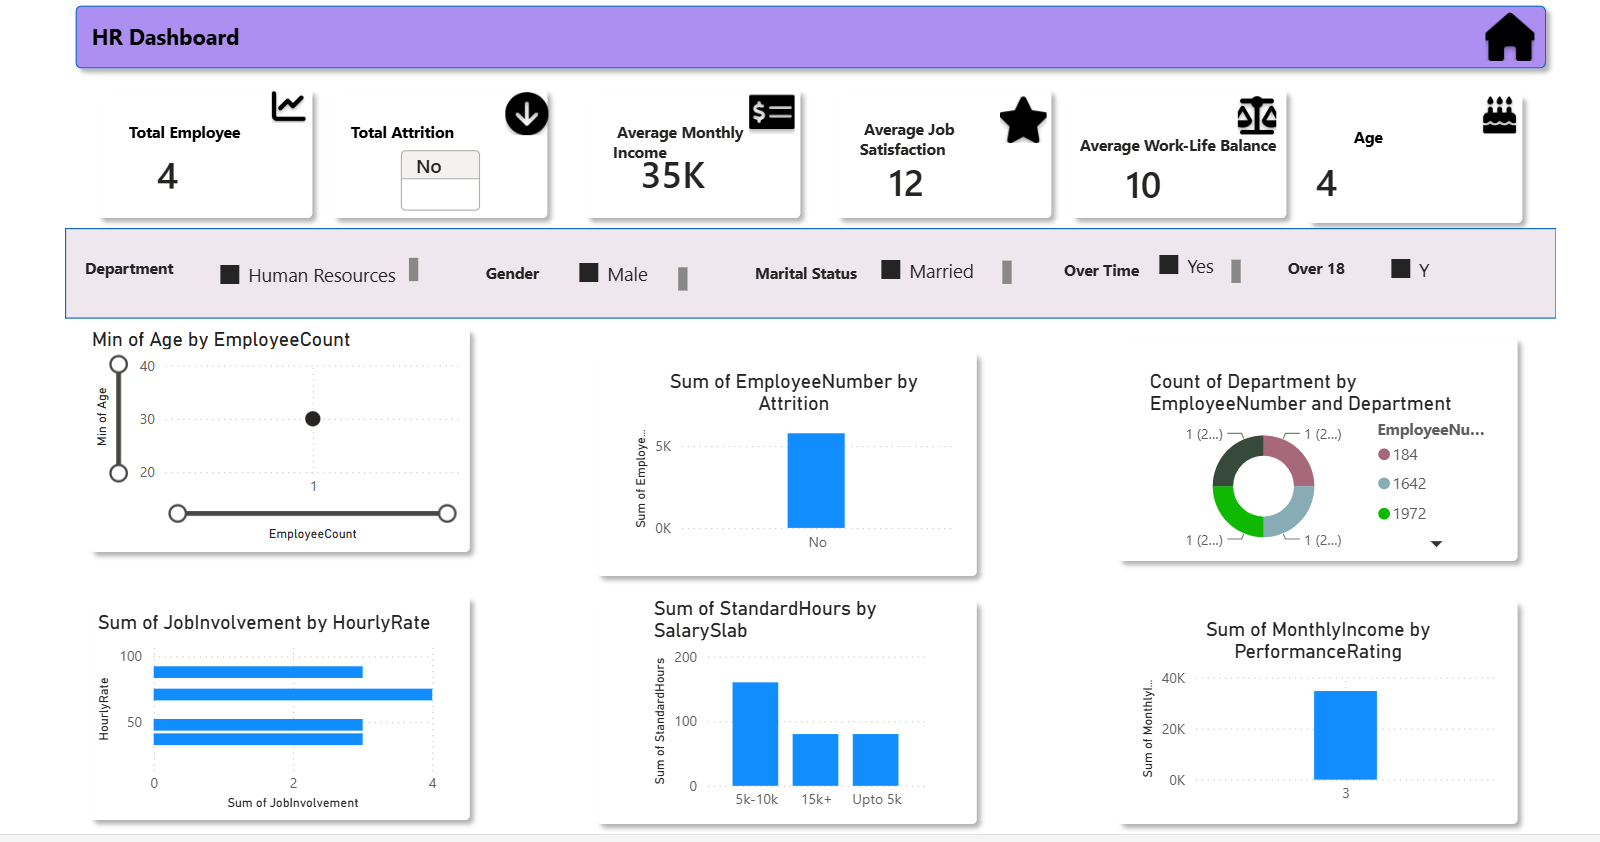

Layout of this report page (visuals, bound fields, positions):
{"tool":"powerbi","page":{"name":"Page 1","canvas":[1280,720],"ordinal":0},"visuals":[{"type":"shape","box":[1057.5,76.3,202.4,128.2],"z":0},{"type":"shape","box":[220.8,72,202.3,128.4],"z":1000},{"type":"shape","box":[652.6,72,202.3,128.4],"z":2000},{"type":"shape","box":[437.7,72,202.3,128.4],"z":3000},{"type":"shape","box":[855,72,202.3,128.4],"z":4000},{"type":"shape","box":[0,200.4,1280,77.8],"z":5000},{"type":"shape","box":[0,0,1280,72],"z":6000},{"type":"textbox","box":[18,18,174.8,43.4],"z":7000},{"type":"image","box":[1215.8,14.6,48.6,41.8],"z":8000},{"type":"shape","box":[18.5,72,202.3,128.4],"z":9000},{"type":"textbox","box":[49.6,104.1,123.5,32.1],"z":10000},{"type":"textbox","box":[240.2,104.1,162.4,35],"z":11000},{"type":"textbox","box":[465.3,104.3,155.4,47.3],"z":12000},{"type":"textbox","box":[676.7,101.4,132.2,56],"z":13000},{"type":"textbox","box":[865.9,114.9,179.5,41.5],"z":14000},{"type":"textbox","box":[1100.9,108.1,130.3,32.8],"z":15000},{"type":"image","box":[172.8,81.1,39.6,29],"z":16000},{"type":"image","box":[375.5,83,40.5,36.7],"z":17000},{"type":"cardVisual","fields":{"Data":["Sum(HR_Analytics.EmployeeCount)"]},"box":[49.8,119.7,306.2,63.6],"z":18000},{"type":"cardVisual","fields":{"Rows":["HR_Analytics.Attrition"]},"box":[282.8,108.1,78.2,102.3],"z":19000},{"type":"cardVisual","fields":{"Data":["Sum(HR_Analytics.MonthlyIncome)"]},"box":[465.2,81.6,376.2,139.9],"z":20000},{"type":"image","box":[585.9,81.1,41.5,38.6],"z":21000},{"type":"cardVisual","fields":{"Data":["Sum(HR_Analytics.JobSatisfaction)"]},"box":[678.1,103.8,308.3,108.1],"z":22000},{"type":"image","box":[802.2,84.9,39.6,44.4],"z":23000},{"type":"cardVisual","fields":{"Data":["Sum(HR_Analytics.WorkLifeBalance)"]},"box":[881.6,119.7,316.8,79.5],"z":24000},{"type":"image","box":[1001.3,86.9,43.4,32.8],"z":25000},{"type":"cardVisual","fields":{"Data":["Count(HR_Analytics.Age)"]},"box":[1044.8,119.7,235.2,74.2],"z":26000},{"type":"image","box":[1215.4,74.2,31.8,58.3],"z":27000},{"type":"textbox","box":[11.7,220.4,94.3,32.8],"z":28000},{"type":"slicer","fields":{"Values":["HR_Analytics.Department"]},"box":[119.7,220.4,187.5,36],"z":29000},{"type":"textbox","box":[356,224.6,59.3,28.6],"z":30000},{"type":"slicer","fields":{"Values":["HR_Analytics.Gender"]},"box":[428.1,219.3,111.3,39.2],"z":31000},{"type":"textbox","box":[587,224.6,106,27.5],"z":32000},{"type":"slicer","fields":{"Values":["HR_Analytics.MaritalStatus"]},"box":[687.7,218.3,130.3,40.3],"z":33000},{"type":"textbox","box":[848.7,222.5,90.1,32.8],"z":34000},{"type":"slicer","fields":{"Values":["HR_Analytics.OverTime"]},"box":[926.1,217.2,87.9,35],"z":35000},{"type":"textbox","box":[1044.8,220.4,79.5,32.8],"z":36000},{"type":"slicer","fields":{"Values":["HR_Analytics.Over18"]},"box":[1125.3,216.2,81.6,44.5],"z":37000},{"type":"shape","box":[11.7,277.6,344.4,209.8],"z":38000},{"type":"shape","box":[447.2,297.7,344.4,209.8],"z":38001},{"type":"shape","box":[894.3,285,361.3,209.8],"z":38002},{"type":"shape","box":[11.7,507.5,344.4,209.8],"z":38003},{"type":"shape","box":[447.2,510.7,344.4,209.8],"z":38004},{"type":"shape","box":[894.3,510.7,361.3,209.8],"z":38005},{"type":"lineChart","fields":{"Category":["HR_Analytics.EmployeeCount"],"Y":["Min(HR_Analytics.Age)"]},"box":[18,285,325.3,187.5],"z":38006},{"type":"clusteredColumnChart","fields":{"Category":["HR_Analytics.Attrition"],"Y":["Sum(HR_Analytics.EmployeeNumber)"]},"box":[484.2,321.1,282.9,166.4],"z":38007},{"type":"donutChart","fields":{"Category":["HR_Analytics.EmployeeNumber"],"Series":["HR_Analytics.Department"],"Y":["CountNonNull(HR_Analytics.Department)"]},"box":[926.1,321.1,305.2,163.2],"z":38008},{"type":"barChart","fields":{"Category":["HR_Analytics.HourlyRate"],"Y":["Sum(HR_Analytics.JobInvolvement)"]},"box":[23.3,527.7,300.9,175.9],"z":38009},{"type":"clusteredColumnChart","fields":{"Category":["HR_Analytics.SalarySlab"],"Y":["Sum(HR_Analytics.StandardHours)"]},"box":[500.1,516,242.6,192.8],"z":38010},{"type":"lineStackedColumnComboChart","fields":{"Category":["HR_Analytics.PerformanceRating"],"Y":["Sum(HR_Analytics.MonthlyIncome)"]},"box":[918.7,534,312.6,169.5],"z":38011}]}

Visuals, with their boxes on the page's 1280x720 design canvas (x1, y1, x2, y2). These are canvas units, not pixel positions in the 1600x842 screenshot, which may show the page scaled, cropped or inside an application window:
shape: <region>1058, 76, 1260, 204</region>
shape: <region>221, 72, 423, 200</region>
shape: <region>653, 72, 855, 200</region>
shape: <region>438, 72, 640, 200</region>
shape: <region>855, 72, 1057, 200</region>
shape: <region>0, 200, 1280, 278</region>
shape: <region>0, 0, 1280, 72</region>
textbox: <region>18, 18, 193, 61</region>
image: <region>1216, 15, 1264, 56</region>
shape: <region>18, 72, 221, 200</region>
textbox: <region>50, 104, 173, 136</region>
textbox: <region>240, 104, 403, 139</region>
textbox: <region>465, 104, 621, 152</region>
textbox: <region>677, 101, 809, 157</region>
textbox: <region>866, 115, 1045, 156</region>
textbox: <region>1101, 108, 1231, 141</region>
image: <region>173, 81, 212, 110</region>
image: <region>376, 83, 416, 120</region>
cardVisual - Sum(HR_Analytics.EmployeeCount): <region>50, 120, 356, 183</region>
cardVisual - HR_Analytics.Attrition: <region>283, 108, 361, 210</region>
cardVisual - Sum(HR_Analytics.MonthlyIncome): <region>465, 82, 841, 222</region>
image: <region>586, 81, 627, 120</region>
cardVisual - Sum(HR_Analytics.JobSatisfaction): <region>678, 104, 986, 212</region>
image: <region>802, 85, 842, 129</region>
cardVisual - Sum(HR_Analytics.WorkLifeBalance): <region>882, 120, 1198, 199</region>
image: <region>1001, 87, 1045, 120</region>
cardVisual - Count(HR_Analytics.Age): <region>1045, 120, 1280, 194</region>
image: <region>1215, 74, 1247, 132</region>
textbox: <region>12, 220, 106, 253</region>
slicer - HR_Analytics.Department: <region>120, 220, 307, 256</region>
textbox: <region>356, 225, 415, 253</region>
slicer - HR_Analytics.Gender: <region>428, 219, 539, 258</region>
textbox: <region>587, 225, 693, 252</region>
slicer - HR_Analytics.MaritalStatus: <region>688, 218, 818, 259</region>
textbox: <region>849, 222, 939, 255</region>
slicer - HR_Analytics.OverTime: <region>926, 217, 1014, 252</region>
textbox: <region>1045, 220, 1124, 253</region>
slicer - HR_Analytics.Over18: <region>1125, 216, 1207, 261</region>
shape: <region>12, 278, 356, 487</region>
shape: <region>447, 298, 792, 508</region>
shape: <region>894, 285, 1256, 495</region>
shape: <region>12, 508, 356, 717</region>
shape: <region>447, 511, 792, 720</region>
shape: <region>894, 511, 1256, 720</region>
lineChart - HR_Analytics.EmployeeCount x Min(HR_Analytics.Age): <region>18, 285, 343, 472</region>
clusteredColumnChart - HR_Analytics.Attrition x Sum(HR_Analytics.EmployeeNumber): <region>484, 321, 767, 488</region>
donutChart - HR_Analytics.EmployeeNumber x HR_Analytics.Department: <region>926, 321, 1231, 484</region>
barChart - HR_Analytics.HourlyRate x Sum(HR_Analytics.JobInvolvement): <region>23, 528, 324, 704</region>
clusteredColumnChart - HR_Analytics.SalarySlab x Sum(HR_Analytics.StandardHours): <region>500, 516, 743, 709</region>
lineStackedColumnComboChart - HR_Analytics.PerformanceRating x Sum(HR_Analytics.MonthlyIncome): <region>919, 534, 1231, 704</region>
